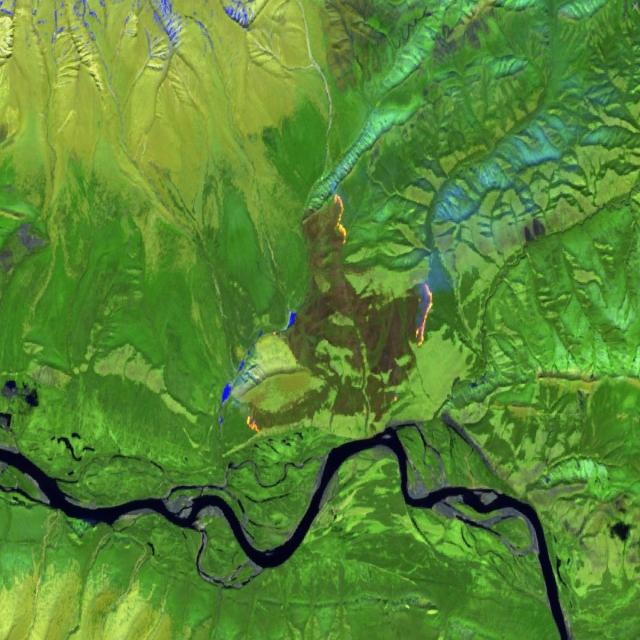fire: (408, 276, 438, 358), (327, 185, 352, 248), (242, 409, 266, 440)
